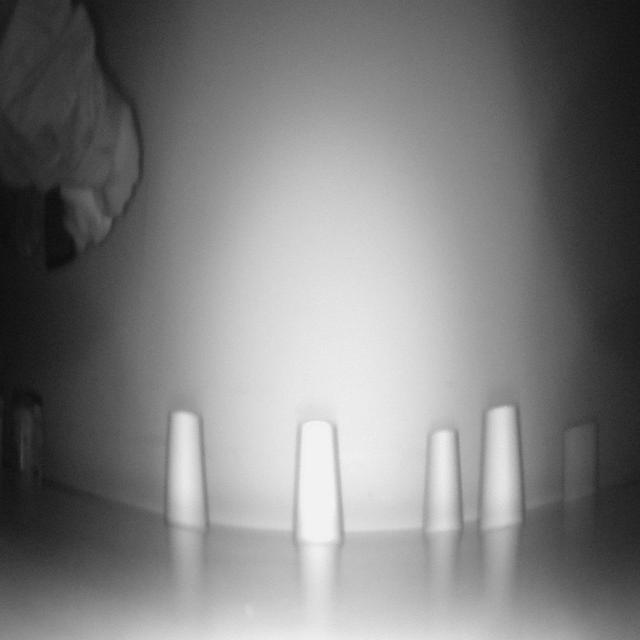targets: (478, 403, 530, 530), (294, 414, 342, 546), (163, 408, 211, 529), (10, 378, 49, 499), (426, 423, 464, 537), (561, 418, 600, 509)
